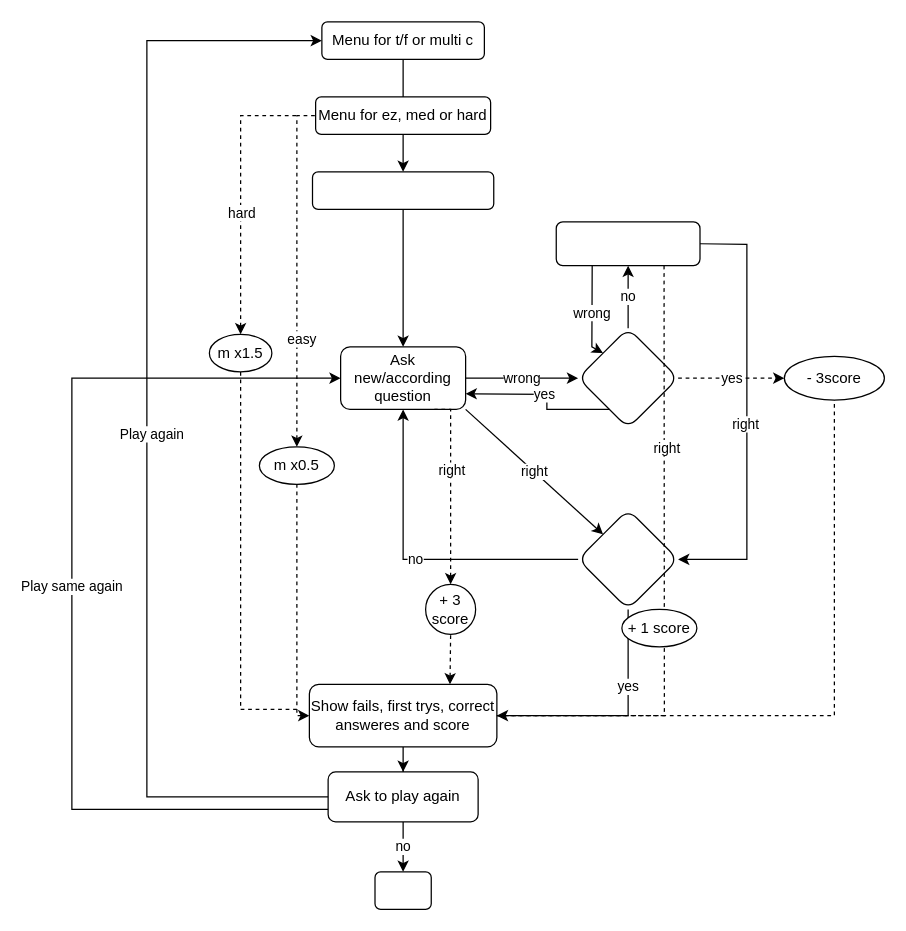
Image size: 906x931. Some labels were removed from this diagram. The box of each missing label's shape, as (x1, y1, x2, y2) in pixels:
Ask the same question: (555, 221, 700, 266)
exit: (374, 871, 431, 909)
Has failed 5 times?: (577, 327, 678, 428)
Has gotten every q right: (577, 508, 678, 609)
Menu for Type (history etc): (311, 171, 494, 209)
